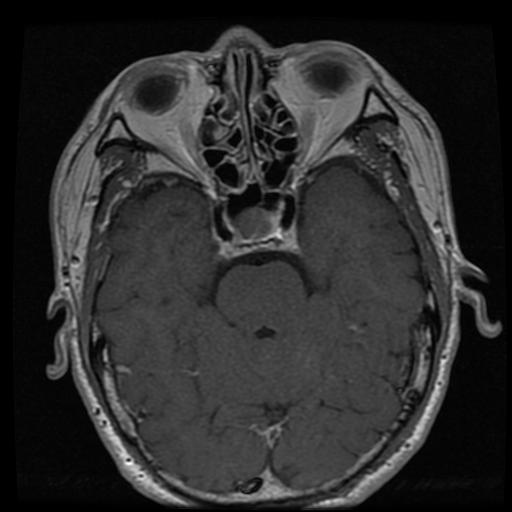Pituirity_tumour: (231, 206, 281, 242)
